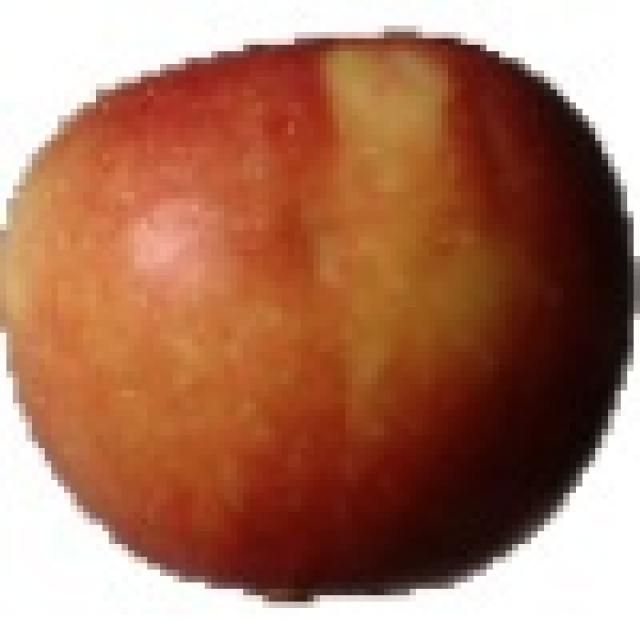apple: (2, 31, 638, 604)
